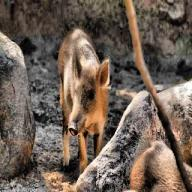boar: (57, 27, 110, 175)
